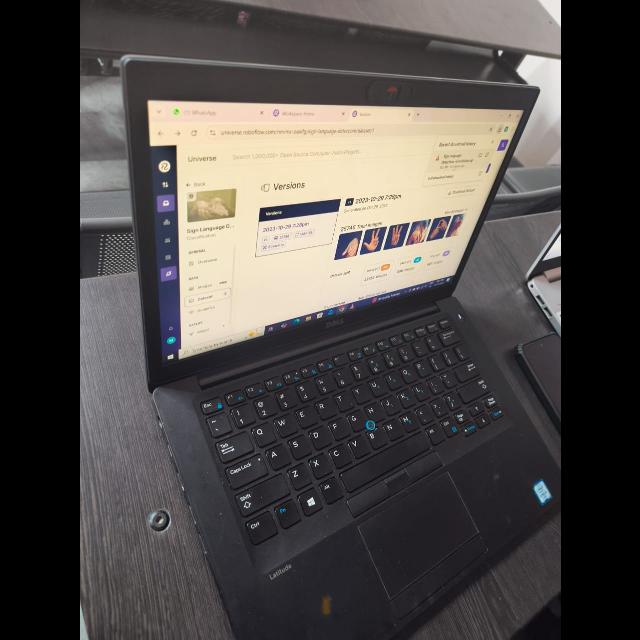laptop: (105, 34, 550, 638)
